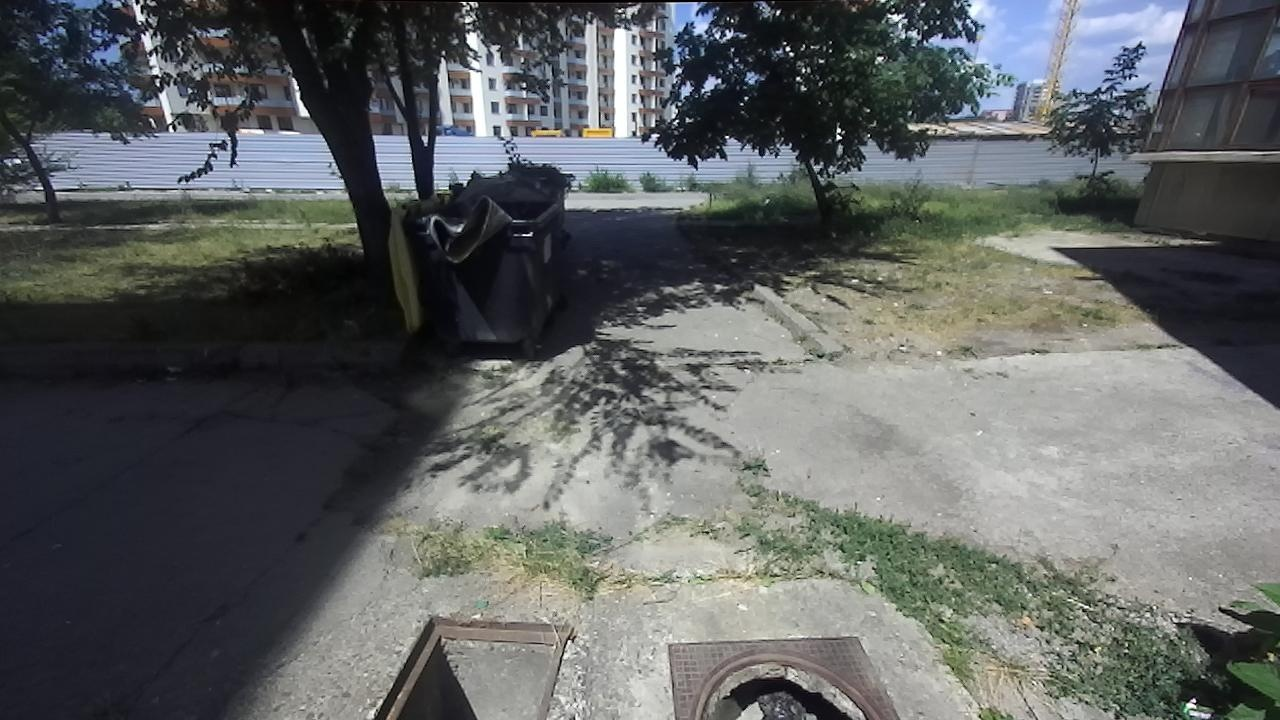drain: (376, 612, 574, 718), (684, 651, 891, 718)
